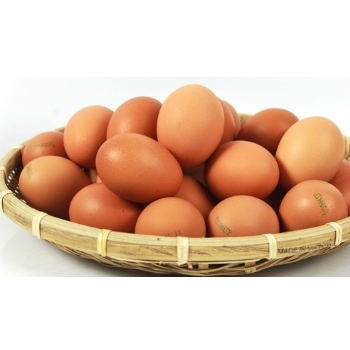egg: (18, 83, 350, 242)
